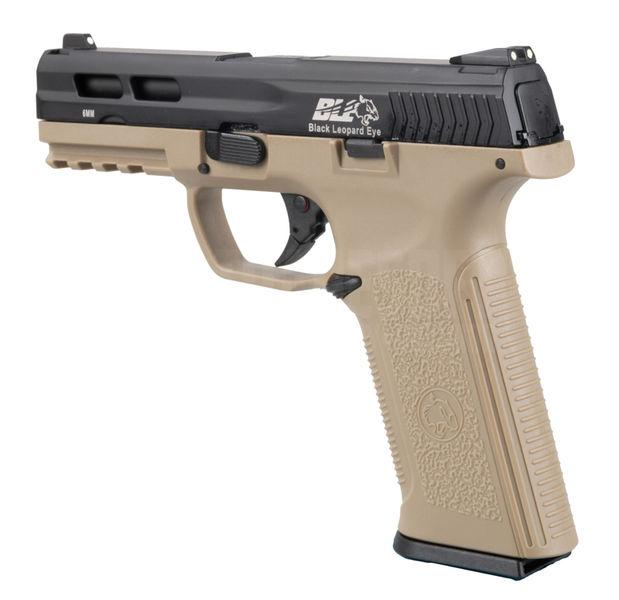asg_ics_ble_xae: (35, 32, 590, 580)
